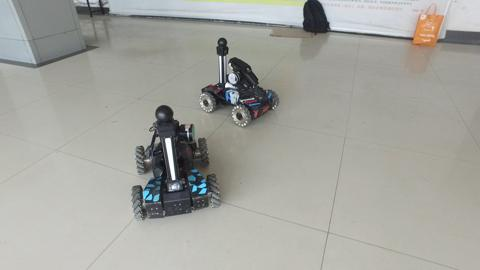chariot: (128, 104, 224, 231), (194, 34, 282, 132)
